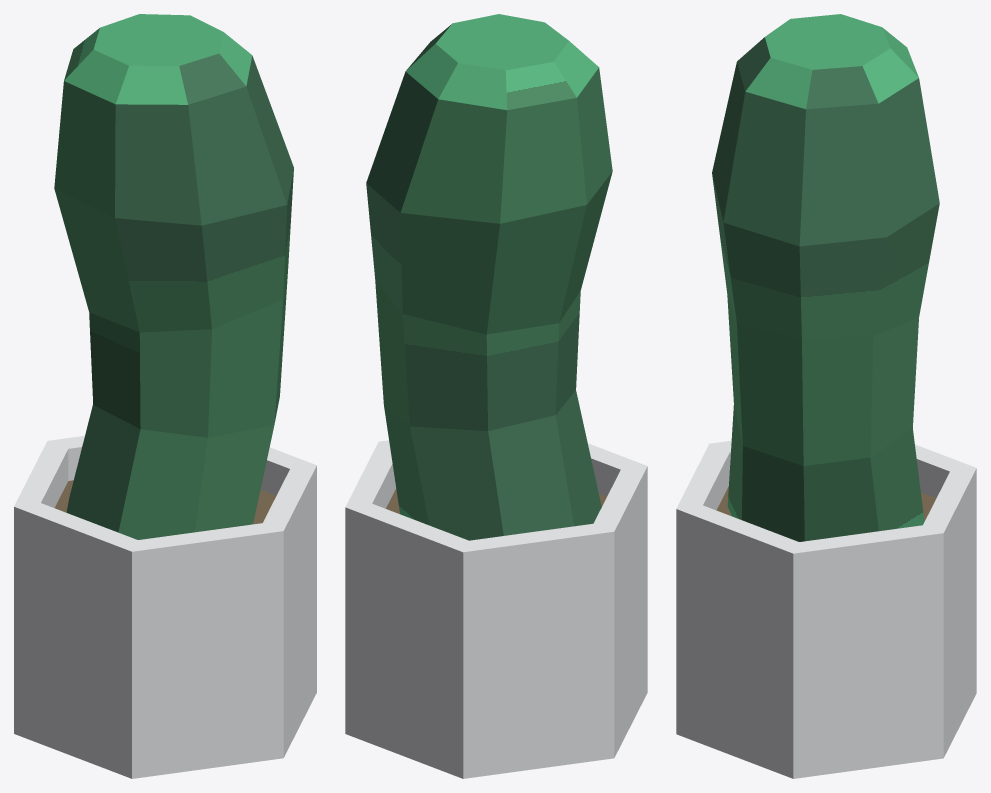
File: Accesories_Big_Cactus.glb
3 views of the same model, side by side, from view 1: azimuth 30°, elevation 25°; view 2: azimuth 150°, elevation 25°; view 3: azimuth 270°, elevation 25° (orthographic).
Visible parts, largest first — view 1: Accesories_Big_Cactus; view 2: Accesories_Big_Cactus; view 3: Accesories_Big_Cactus.
Boxes of the visible parts, x1=… form: Accesories_Big_Cactus: x1=14, y1=14, x2=316, y2=778; Accesories_Big_Cactus: x1=345, y1=14, x2=647, y2=778; Accesories_Big_Cactus: x1=676, y1=14, x2=976, y2=778.
Bounding box in the file's own units: 0.5006 × 1.2 × 0.4872.
Materials: 1 (1 with a texture image).
